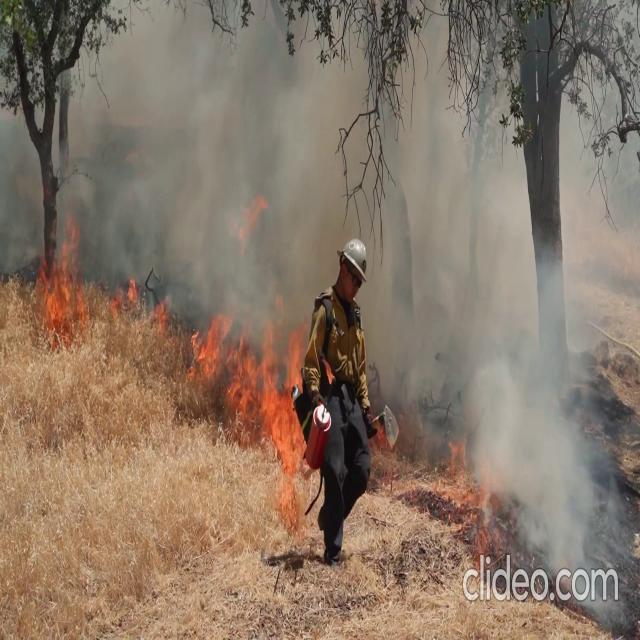Fire: (0, 208, 150, 334), (190, 313, 304, 467)
Smoke: (372, 39, 638, 589), (90, 16, 336, 316)
